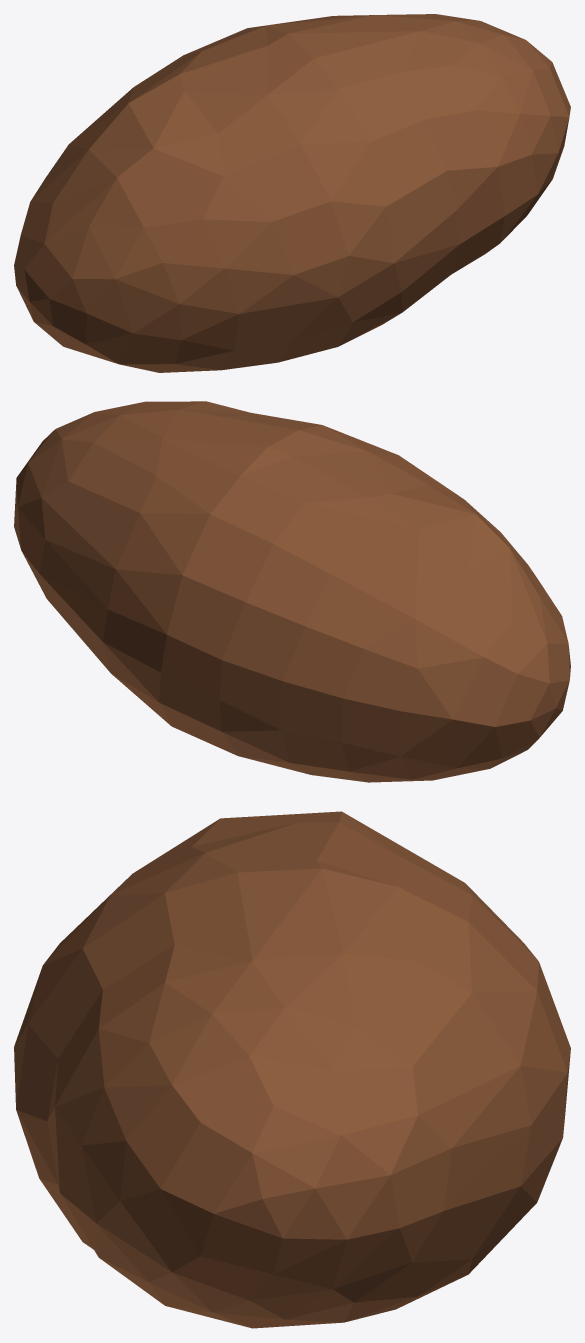
Rendered from Papa.fbx.
3 views of the same model, one above another, from view 1: azimuth 30°, elevation 25°; view 2: azimuth 150°, elevation 25°; view 3: azimuth 270°, elevation 25° (orthographic). The views are drawn at different scales.
Visible parts, largest first — view 1: Sphere; view 2: Sphere; view 3: Sphere.
Boxes of the visible parts, x1=… form: Sphere: x1=14, y1=14, x2=570, y2=372; Sphere: x1=14, y1=401, x2=570, y2=782; Sphere: x1=14, y1=811, x2=570, y2=1328.
Bounding box in the file's own units: 355 × 191 × 218.
